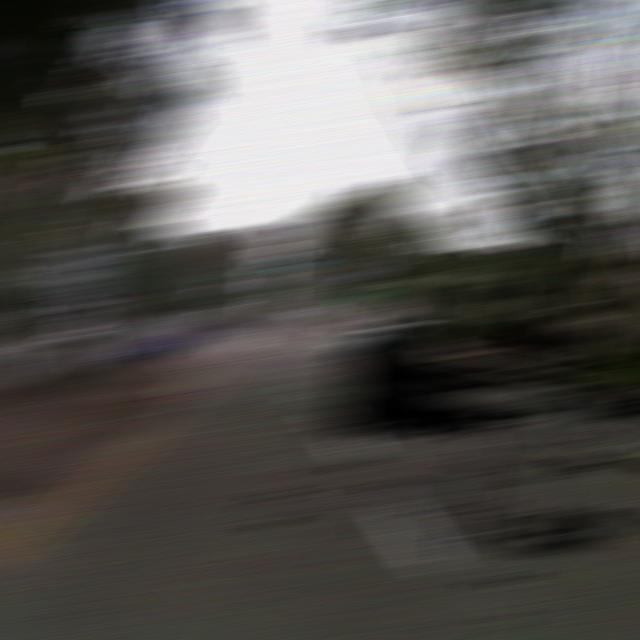speedLimit45: (46, 246, 108, 309)
